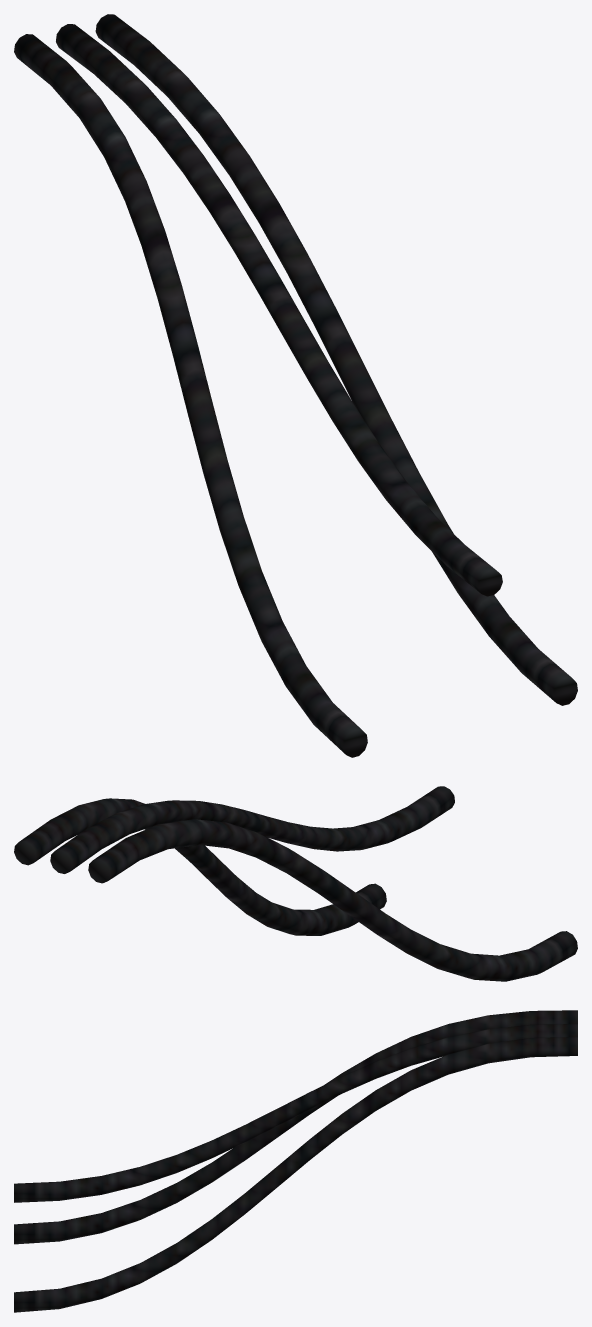
Rendered from sleeping_cables.fbx.
The picture shows the model from 3 angles, top to bottom: view 1: azimuth 30°, elevation 25°; view 2: azimuth 150°, elevation 25°; view 3: azimuth 270°, elevation 25°; orthographic projection. The views are drawn at different scales.
Visible parts, largest first — view 1: sleeping_cables_mesh; view 2: sleeping_cables_mesh; view 3: sleeping_cables_mesh.
Boxes of the visible parts, <box> form: sleeping_cables_mesh: <box>14,14,577,757</box>; sleeping_cables_mesh: <box>14,786,577,981</box>; sleeping_cables_mesh: <box>14,1010,577,1312</box>.
Bounding box in the file's own units: 32.35 × 51.64 × 101.
